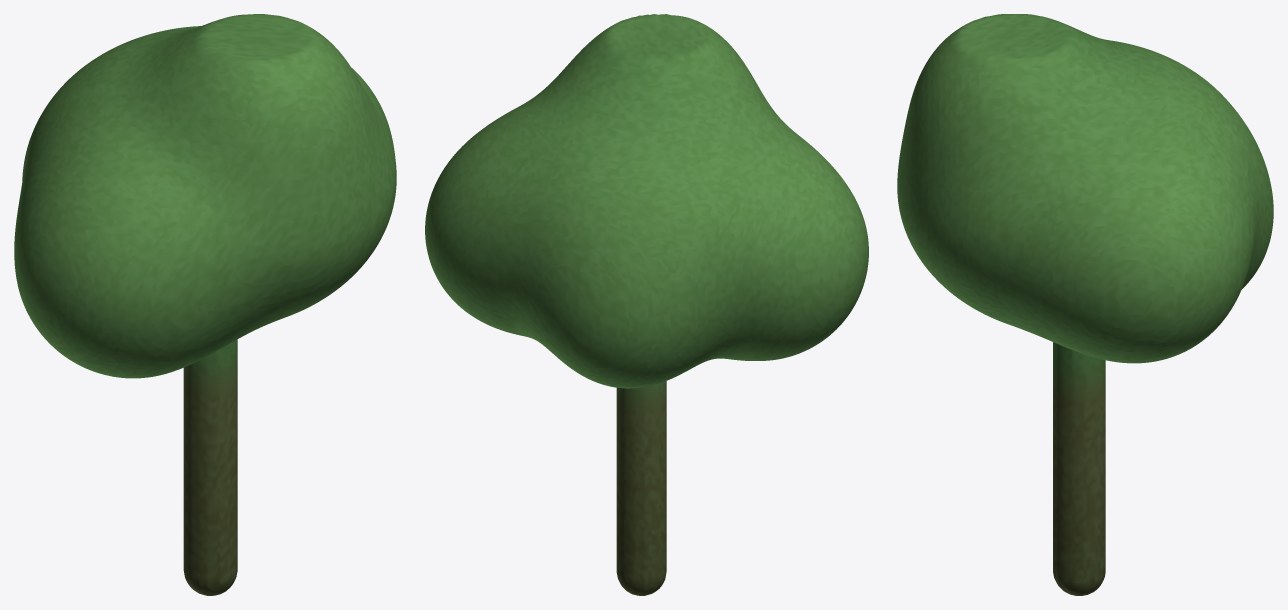
File: broadleaf.glb
The picture shows the model from 3 angles, left to right: view 1: azimuth 30°, elevation 25°; view 2: azimuth 150°, elevation 25°; view 3: azimuth 270°, elevation 25°; orthographic projection. The views are drawn at different scales.
Visible parts, largest first — view 1: broadleaf; view 2: broadleaf; view 3: broadleaf.
Boxes of the visible parts, box(x1,y1,x2,y2) form: broadleaf: box(14, 14, 396, 595); broadleaf: box(425, 14, 868, 595); broadleaf: box(897, 14, 1273, 595).
Size of the model in its own units: 2.7 by 3.75 by 2.27.
